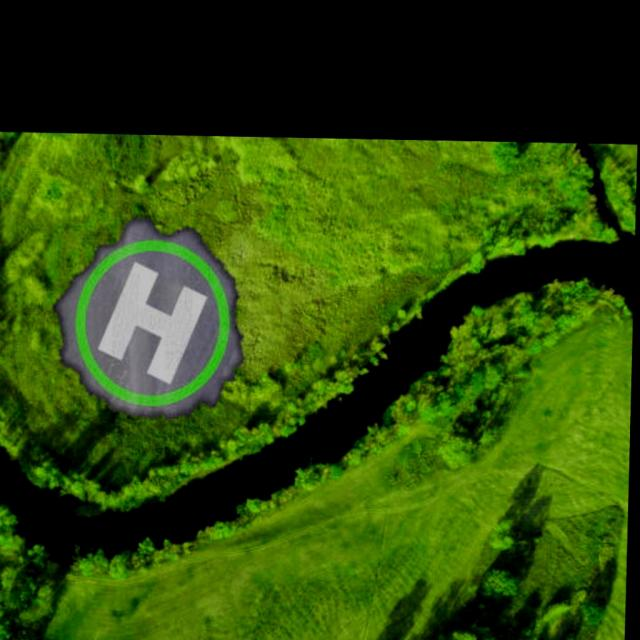helipad: (70, 233, 236, 412)
